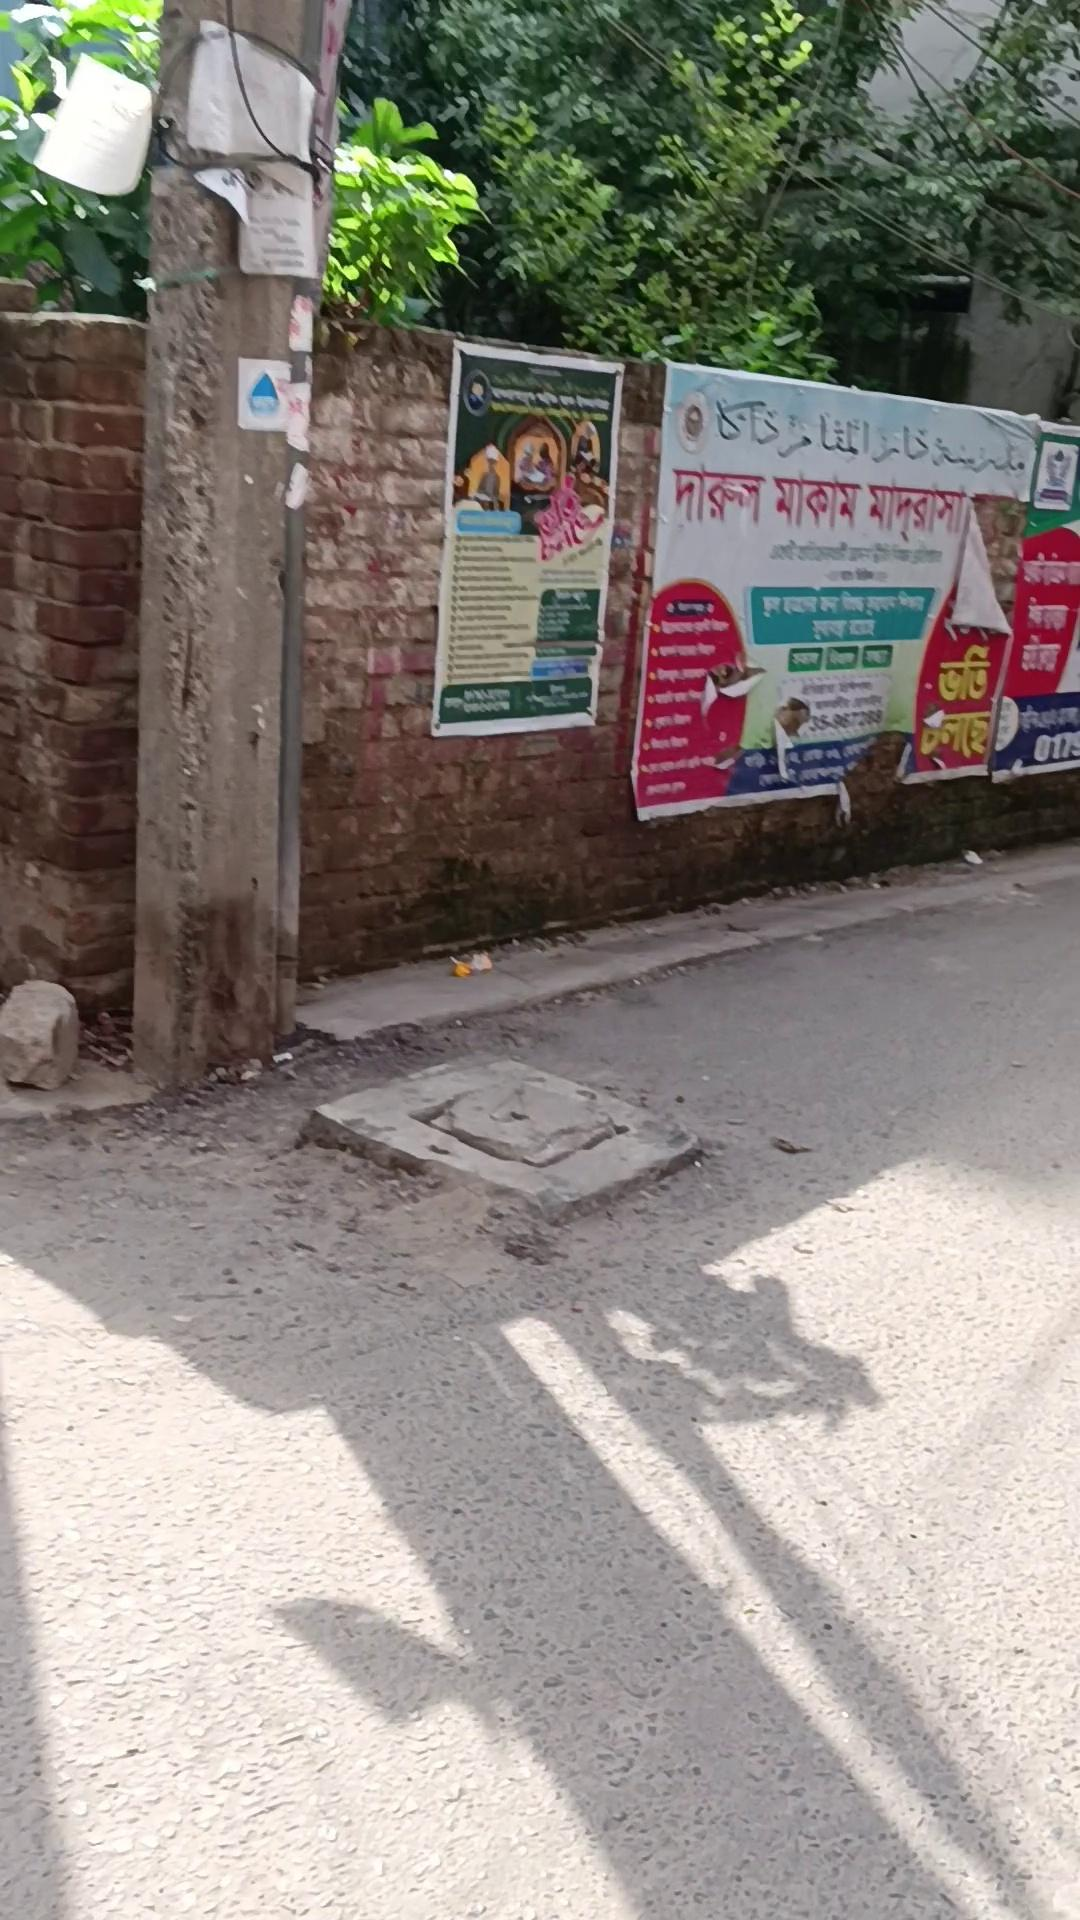Crosswalk: (293, 835, 1072, 1043)
Obstacle: (127, 1, 351, 1089)
Tree: (8, 310, 1080, 1007)
